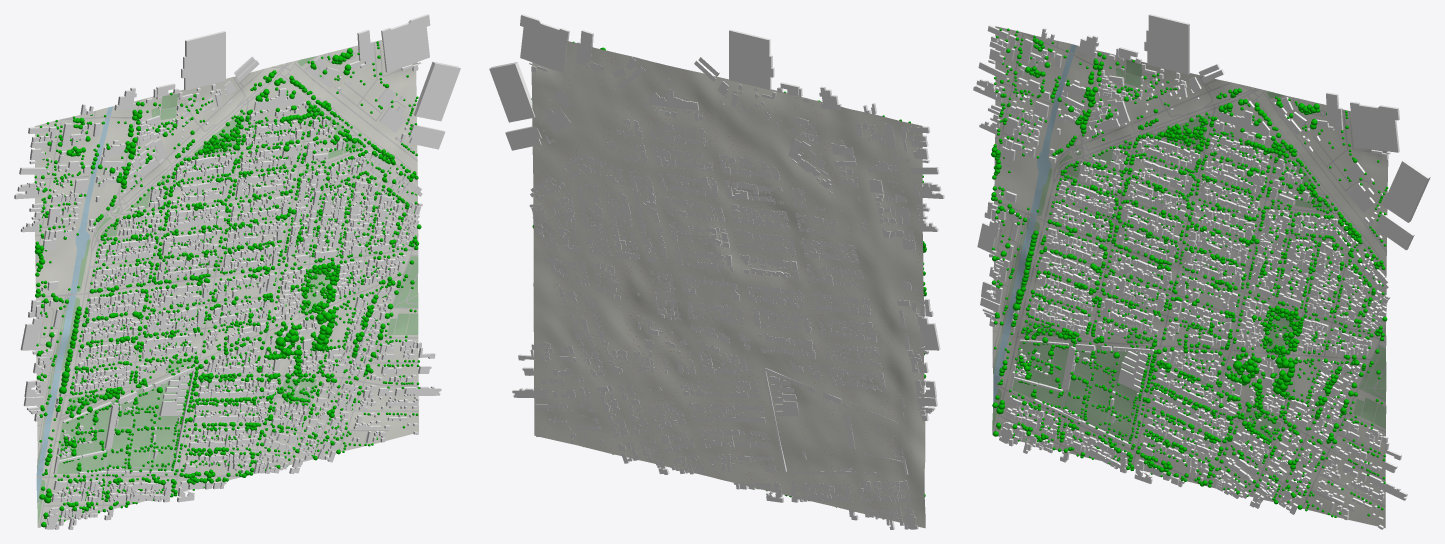
The model's file is topoexport_3D_modeling_batallaDelPilar.glb.
The picture shows the model from 3 angles, left to right: view 1: azimuth 30°, elevation 25°; view 2: azimuth 150°, elevation 25°; view 3: azimuth 330°, elevation 25°; orthographic projection.
Visible parts, largest first — view 1: TPX_Buildings, TPX_Ground, TPX_RoadsOutlines, TPX_GreenAreas, TPX_Waterways_1; view 2: TPX_Ground, TPX_Buildings; view 3: TPX_Buildings, TPX_Ground, TPX_RoadsOutlines, TPX_GreenAreas, TPX_Waterways_1.
Boxes of the visible parts, box(x1,y1,x2,y2) form: TPX_Buildings: box(14, 14, 460, 529); TPX_Ground: box(34, 40, 418, 527); TPX_RoadsOutlines: box(34, 40, 418, 527); TPX_GreenAreas: box(37, 56, 418, 525); TPX_Waterways_1: box(36, 106, 112, 502); TPX_Ground: box(531, 41, 925, 528); TPX_Buildings: box(489, 14, 944, 529); TPX_Buildings: box(973, 14, 1430, 529); TPX_Ground: box(992, 26, 1388, 528); TPX_RoadsOutlines: box(992, 32, 1386, 511); TPX_GreenAreas: box(992, 59, 1386, 446); TPX_Waterways_1: box(993, 44, 1076, 409).
Size of the model in its own units: 1119 by 1097 by 39.15.
